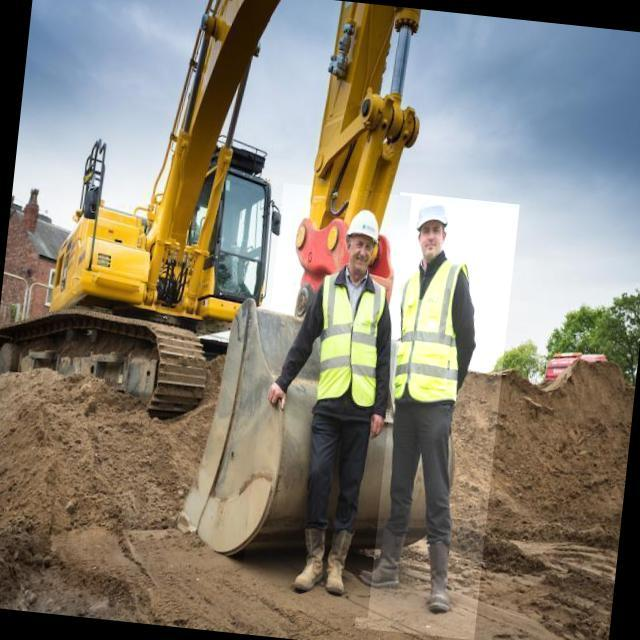Helmet: (336, 204, 391, 250), (407, 197, 457, 234)
Person: (356, 191, 497, 626), (260, 200, 396, 616)
Safety Boot: (352, 519, 411, 598), (415, 531, 467, 619), (287, 519, 334, 598), (319, 512, 354, 604)
Safety Vest: (385, 248, 478, 414), (298, 266, 395, 411)
bare-arms: (264, 378, 294, 421), (368, 396, 389, 438)
